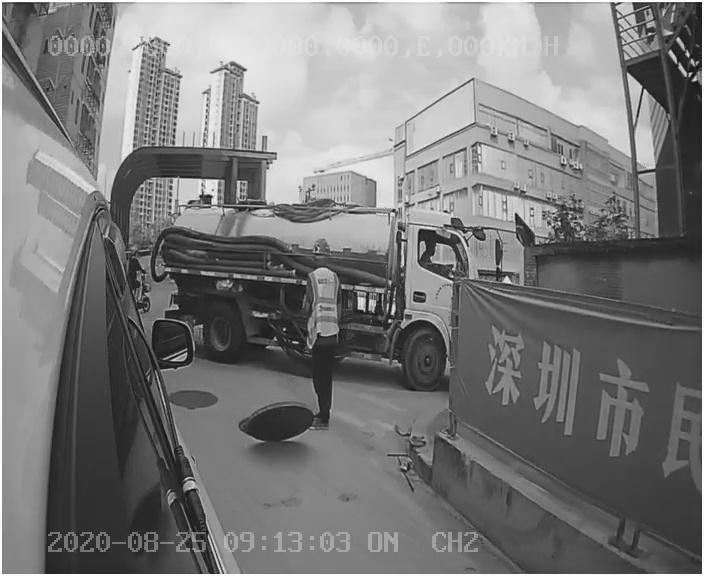person: (296, 239, 350, 440)
